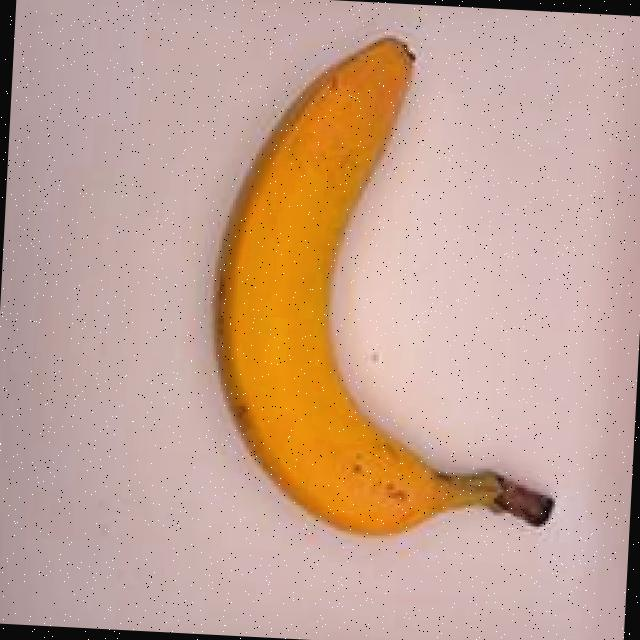Ripe: (166, 18, 586, 559)
